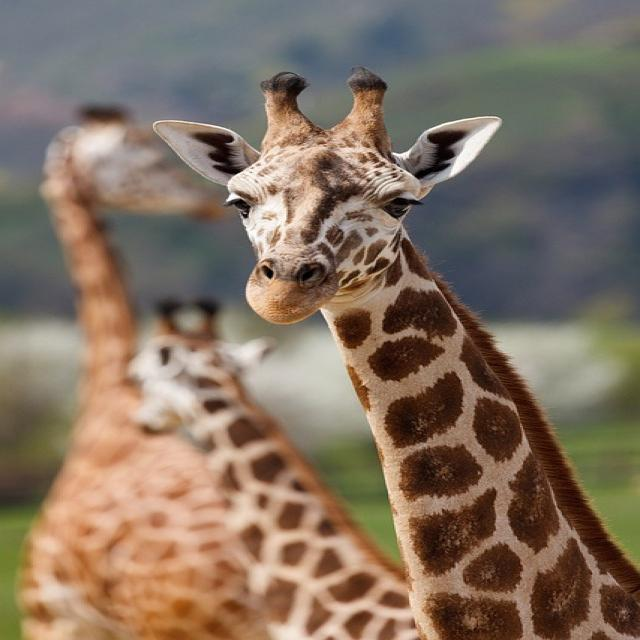Herbivorous: (153, 67, 640, 640)
